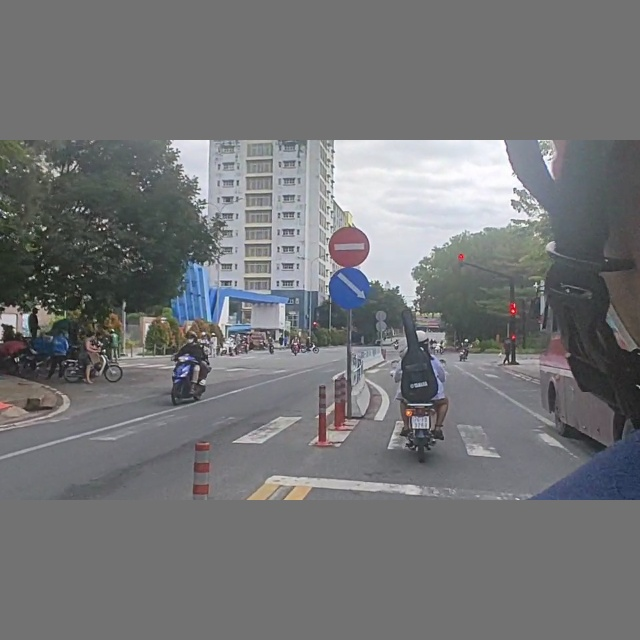P.102: (330, 224, 371, 268)
R.302a: (329, 267, 372, 310)
